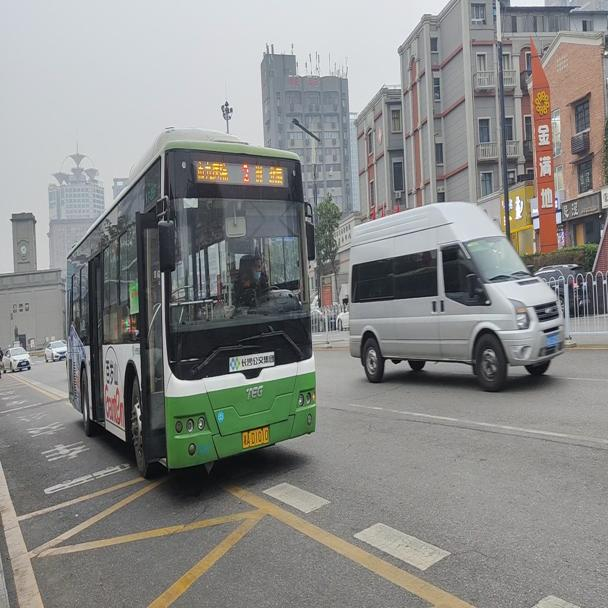bus: (61, 114, 320, 481)
screen: (234, 158, 253, 185)
